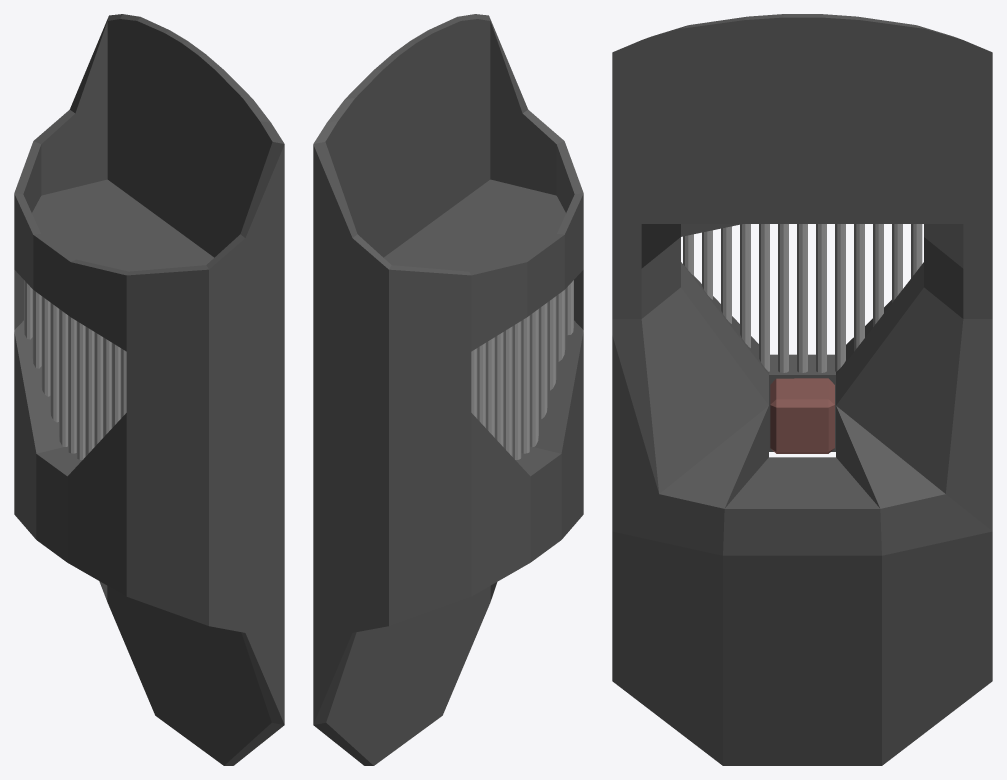
File: SwitchPedestal.fbx
3 renders of one model, left to right at view 1: azimuth 30°, elevation 25°; view 2: azimuth 150°, elevation 25°; view 3: azimuth 270°, elevation 25°, orthographic. The views are drawn at different scales.
Visible parts, largest first — view 1: SwitchPedestal, MetalBar6, MetalBar5, MetalBar7, MetalBar8, MetalBar9, MetalBar4, MetalBar10, MetalBar3, MetalBar2, MetalBar11, MetalBar12 (+1 smaller); view 2: SwitchPedestal, MetalBar6, MetalBar7, MetalBar5, MetalBar4, MetalBar3, MetalBar8, MetalBar2, MetalBar9, MetalBar10, MetalBar1, MetalBar11; view 3: SwitchPedestal, On_OffSwitch, MetalBar6, MetalBar5, MetalBar7, MetalBar8, MetalBar4, MetalBar9, MetalBar3, MetalBar10, MetalBar2, MetalBar11 (+1 smaller).
Part boxes in pixels (x1,y1,x2,y2): SwitchPedestal: (14, 14, 284, 765); MetalBar6: (76, 321, 85, 459); MetalBar5: (85, 326, 94, 456); MetalBar7: (68, 315, 76, 453); MetalBar8: (59, 309, 67, 446); MetalBar9: (50, 302, 58, 422); MetalBar4: (94, 332, 102, 446); MetalBar10: (41, 296, 50, 396); MetalBar3: (103, 337, 111, 437); MetalBar2: (111, 343, 120, 428); MetalBar11: (32, 289, 41, 368); MetalBar12: (24, 280, 32, 339); SwitchPedestal: (313, 14, 583, 765); MetalBar6: (512, 321, 521, 459); MetalBar7: (503, 326, 512, 456); MetalBar5: (521, 315, 529, 453); MetalBar4: (530, 309, 538, 446); MetalBar3: (539, 302, 547, 419); MetalBar8: (495, 332, 503, 446); MetalBar2: (547, 296, 556, 390); MetalBar9: (486, 337, 494, 437); MetalBar10: (477, 343, 485, 427); MetalBar1: (556, 289, 565, 361); MetalBar11: (471, 348, 477, 418); SwitchPedestal: (612, 14, 992, 765); On_OffSwitch: (770, 378, 834, 453); MetalBar6: (797, 224, 807, 372); MetalBar5: (778, 224, 788, 372); MetalBar7: (816, 224, 826, 372); MetalBar8: (835, 224, 845, 371); MetalBar4: (759, 224, 769, 371); MetalBar9: (854, 224, 864, 351); MetalBar3: (740, 224, 750, 347); MetalBar10: (873, 224, 883, 326); MetalBar2: (721, 226, 731, 323); MetalBar11: (892, 224, 902, 302).
Size of the model in its own units: 628 by 2171 by 1000.
